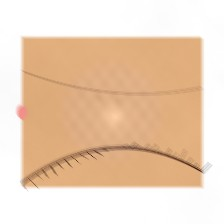pterygium_lesion: (148, 90, 202, 134)
